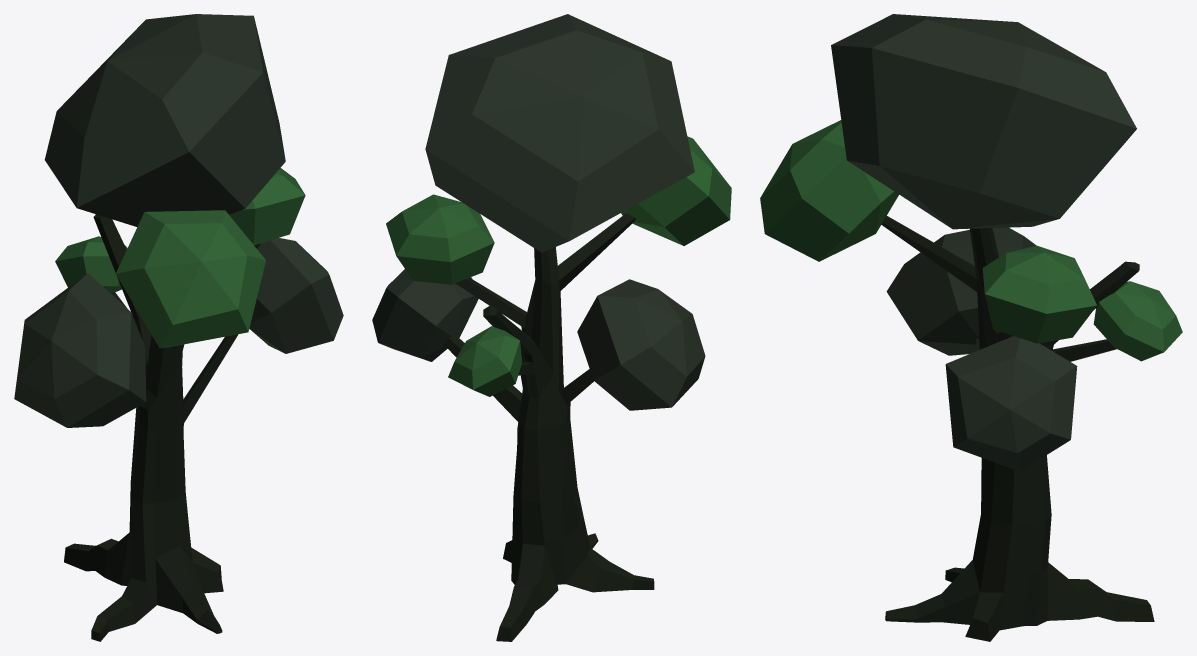
The model's file is tree1_2.FBX.
The picture shows the model from 3 angles, left to right: view 1: azimuth 30°, elevation 25°; view 2: azimuth 150°, elevation 25°; view 3: azimuth 270°, elevation 25°; orthographic projection. The views are drawn at different scales.
Parts seen in each view (by area): view 1: tree1_2; view 2: tree1_2; view 3: tree1_2.
Boxes of the visible parts, bbox=[...] form: tree1_2: bbox=[14, 14, 343, 641]; tree1_2: bbox=[372, 14, 731, 641]; tree1_2: bbox=[760, 14, 1182, 641].
Size of what is drawn, in the model's own units: 400 by 432 by 691.
